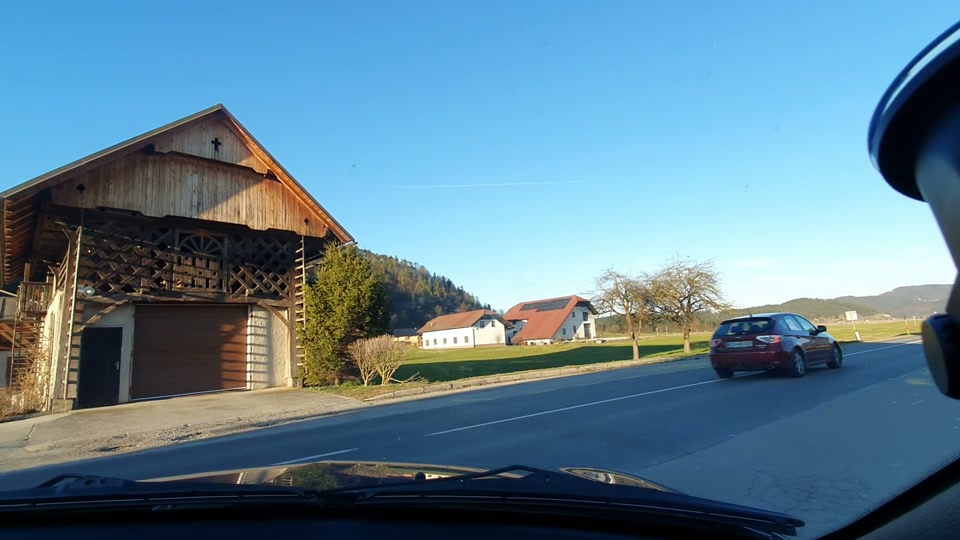vehicle_ign: (703, 307, 848, 381)
